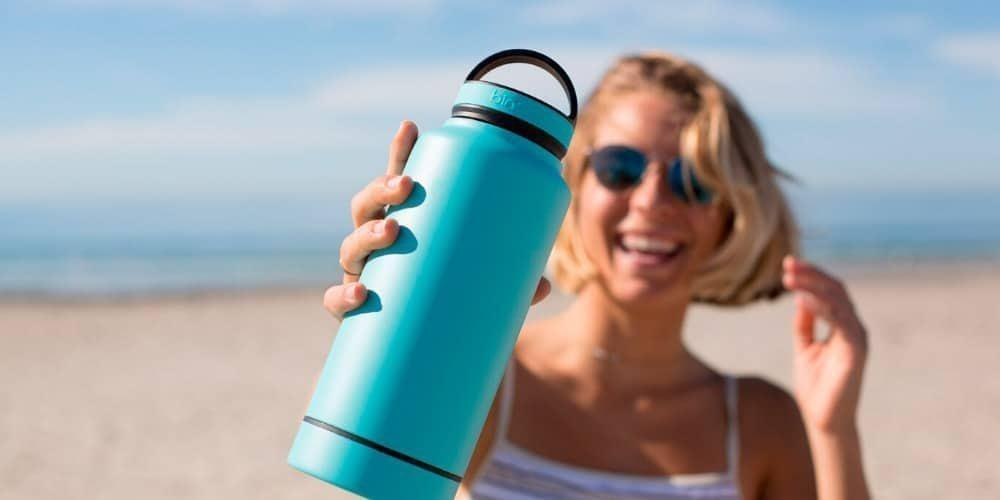gym bottle: (286, 45, 585, 499)
